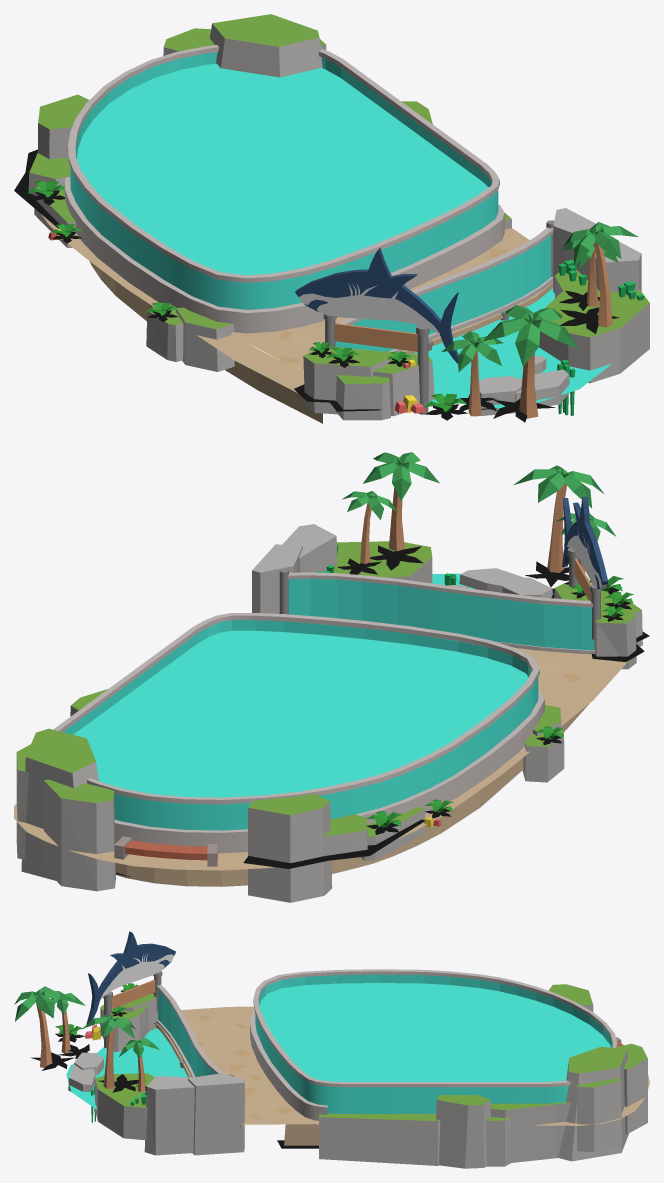
The model's file is xweilan_1020_1.FBX.
3 renders of one model, top to bottom at view 1: azimuth 30°, elevation 25°; view 2: azimuth 150°, elevation 25°; view 3: azimuth 270°, elevation 25°, orthographic. The views are drawn at different scales.
Visible parts, largest first — view 1: xweilan_1020_1; view 2: xweilan_1020_1; view 3: xweilan_1020_1.
Boxes of the visible parts, x1,y1,x2,y2 form: xweilan_1020_1: [14, 14, 649, 423]; xweilan_1020_1: [14, 452, 649, 902]; xweilan_1020_1: [14, 931, 649, 1168].
Size of the model in its own units: 4562 by 2169 by 8962.
